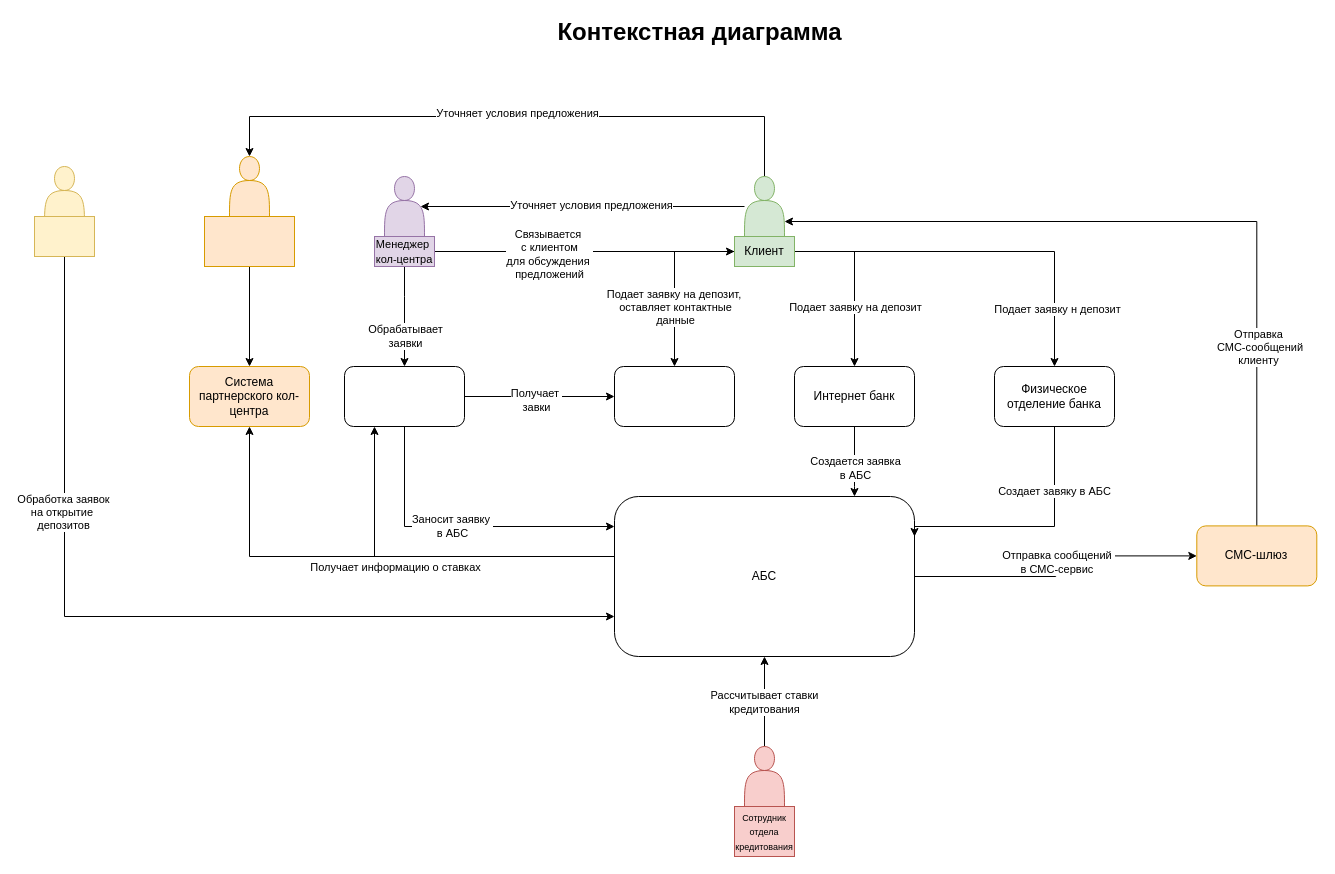
The diagram is 1335 pixels wide and 874 high, and some of its shapes have lost their labels. The shapes that lost their labels are listed below. From the top down, each one's centre as x and y in pixels, then its label:
At point 64,236: "Менеджер бэк-офиса".
At point 249,241: "Менеджер партнерского кол-центра".
At point 404,396: "Система кол-центра".
At point 674,396: "Сайт банка".
